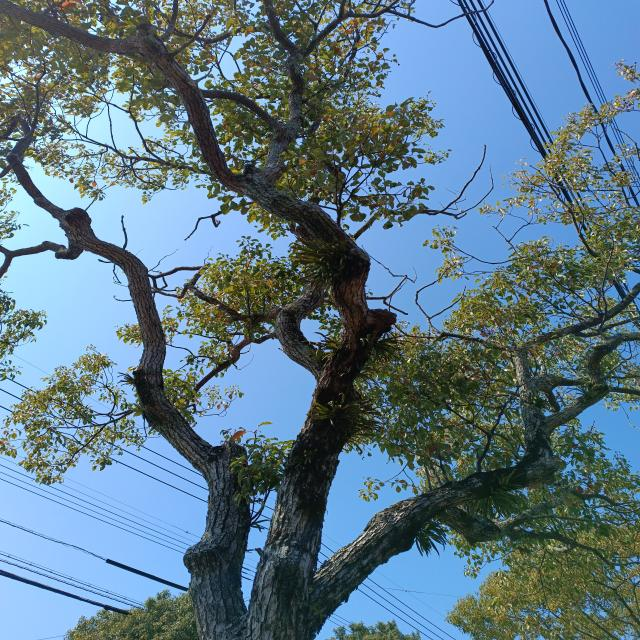Branch: (0, 0, 242, 192), (69, 228, 210, 472), (152, 262, 284, 322), (262, 0, 306, 137), (7, 126, 71, 220), (200, 90, 286, 134), (0, 241, 82, 278), (187, 26, 272, 44), (160, 0, 178, 44)
Twig: (306, 0, 493, 56), (58, 119, 213, 175), (83, 90, 165, 163), (184, 203, 257, 240), (168, 15, 210, 58), (151, 286, 188, 299), (107, 104, 117, 150), (152, 25, 186, 38), (166, 20, 187, 37), (152, 279, 176, 291), (121, 216, 128, 249), (339, 0, 346, 16)
